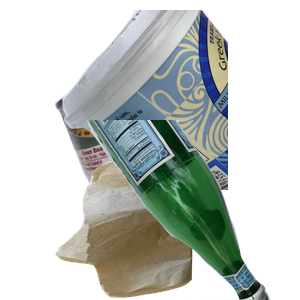glass: (75, 120, 300, 300)
metal: (52, 57, 260, 237)
plastic: (60, 10, 300, 190)
trash: (53, 121, 239, 300)
